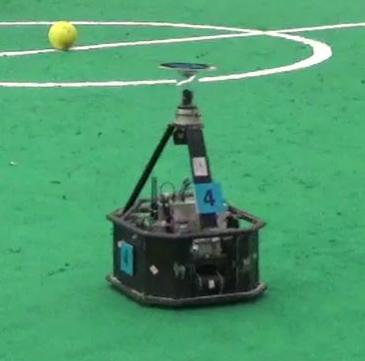robot: (105, 58, 270, 310)
